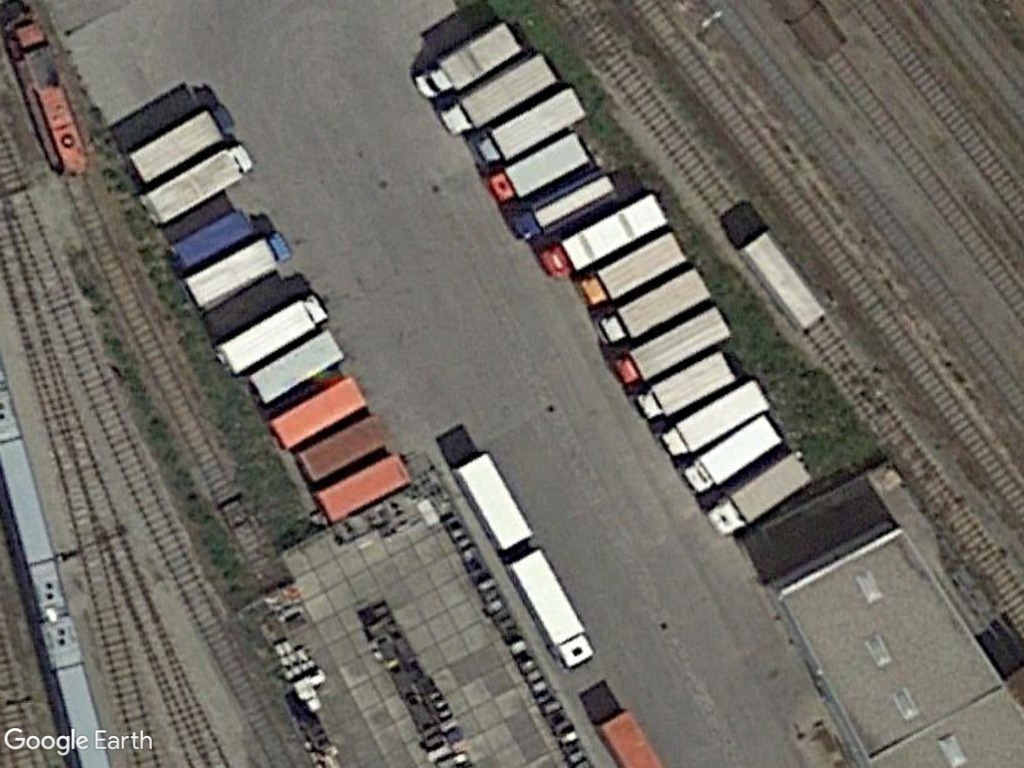truck: (538, 188, 674, 285), (437, 49, 560, 147), (503, 544, 596, 673), (210, 284, 332, 382), (610, 299, 732, 394), (139, 137, 255, 236), (658, 369, 771, 466), (464, 85, 588, 173), (123, 95, 239, 189), (591, 262, 715, 349), (703, 446, 812, 541), (506, 162, 623, 250), (409, 15, 525, 101), (182, 226, 292, 315), (634, 343, 741, 434), (578, 224, 687, 311), (484, 128, 597, 211), (680, 405, 781, 497)
